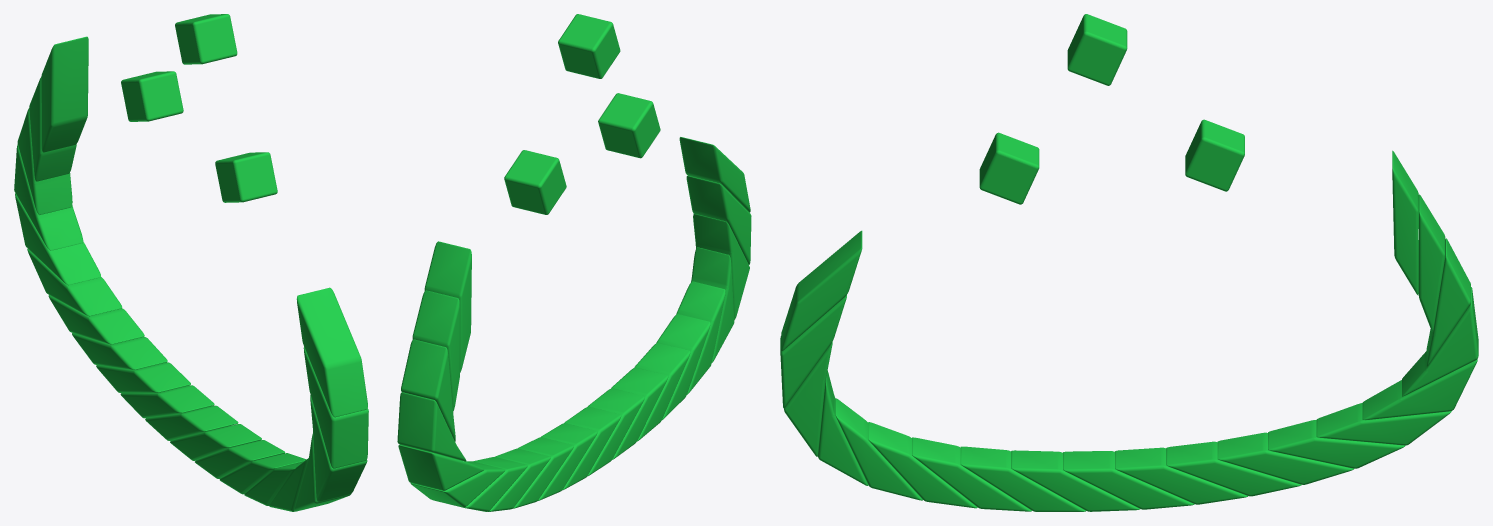
File: tsa.fbx
3 views of the same model, side by side, from view 1: azimuth 30°, elevation 25°; view 2: azimuth 150°, elevation 25°; view 3: azimuth 270°, elevation 25° (orthographic). The views are drawn at different scales.
Visible parts, largest first — view 1: Cube, Cube.001, Cube.003, Cube.002; view 2: Cube, Cube.002, Cube.001, Cube.003; view 3: Cube, Cube.002, Cube.003, Cube.001.
Part boxes in pixels (box(x1,y1,x2,y2)): Cube: box(14, 36, 368, 511); Cube.001: box(121, 71, 183, 121); Cube.003: box(175, 14, 237, 64); Cube.002: box(215, 152, 277, 202); Cube: box(397, 137, 751, 511); Cube.002: box(598, 93, 660, 158); Cube.001: box(504, 150, 566, 214); Cube.003: box(558, 14, 620, 78); Cube: box(780, 150, 1478, 511); Cube.002: box(979, 132, 1039, 204); Cube.003: box(1067, 14, 1127, 85); Cube.001: box(1185, 119, 1244, 191).
Size of the model in its own units: 50 by 561 by 739.
